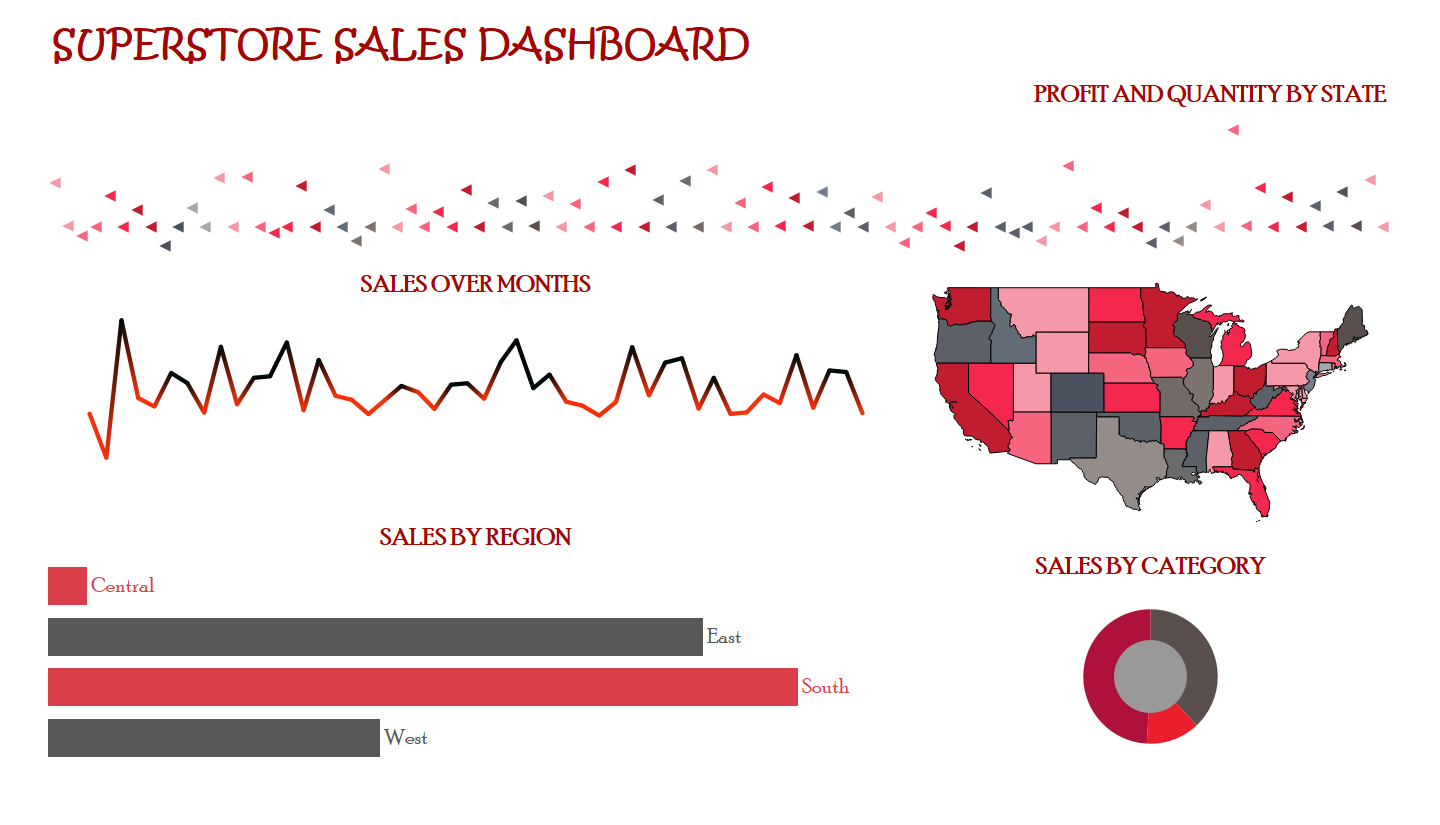

This screenshot's page, from the dashboard's own definition file:
{"tool":"tableau","page":{"name":"Dashboard 1","canvas":[1366,768],"ordinal":0},"visuals":[{"type":"title","box":[8,8,1350,57]},{"type":"worksheet","title":"PROFIT AND QUANTITY BY STATE","mark":"Shape","cols":["State"],"box":[8,65,1350,190.4]},{"type":"worksheet","title":"SALES OVER MONTHS","mark":"Automatic","rows":["Sales"],"cols":["Order Date (Months)"],"box":[8,255.4,863,252.3]},{"type":"worksheet","title":"Sheet 4","mark":"Multipolygon","box":[871,255.4,487,281.3]},{"type":"worksheet","title":"SALES BY REGION","mark":"Automatic","rows":["Region"],"cols":["Sales"],"box":[8,507.7,863,252.3]},{"type":"worksheet","title":"SALES BY CATEGORY","mark":"Pie","rows":["Calculation_596445476897206272","Calculation_596445476897206272"],"box":[871,536.7,487,223.3]}]}

Visuals, with their boxes in screenshot pixels (x1, y1, x2, y2), scaled from the page's 1366x768 canvas onto the 1440x825 screenshot:
title: 8, 9, 1432, 70
"PROFIT AND QUANTITY BY STATE" worksheet (Shape marks): 8, 70, 1432, 274
"SALES OVER MONTHS" worksheet: 8, 274, 918, 545
"Sheet 4" worksheet (Multipolygon marks): 918, 274, 1432, 577
"SALES BY REGION" worksheet: 8, 545, 918, 816
"SALES BY CATEGORY" worksheet (Pie marks): 918, 577, 1432, 816
